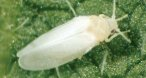whitefly: (17, 1, 133, 77)
